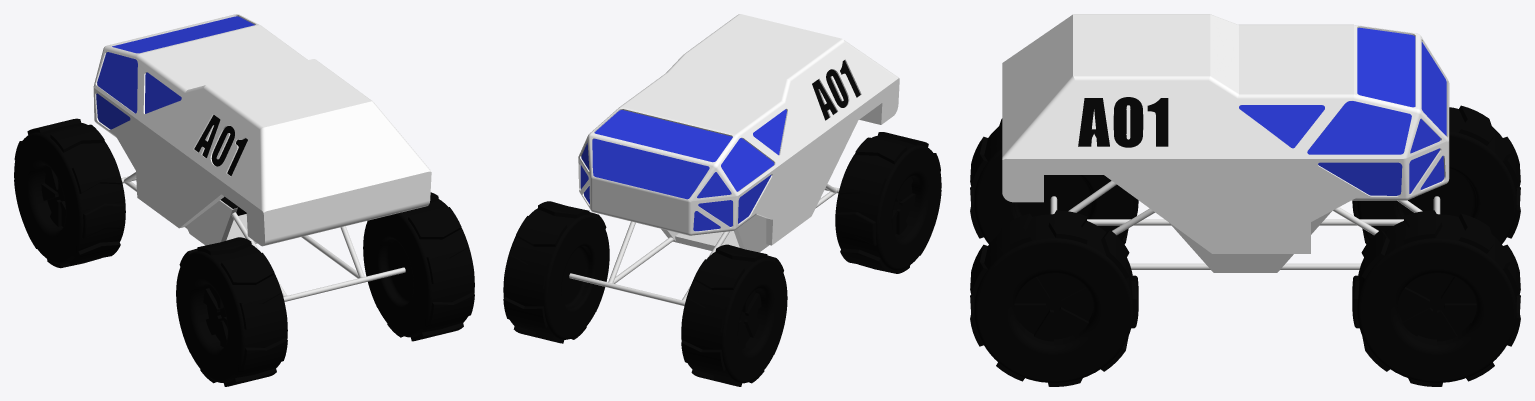
Rendered from axis-01.glb.
3 renders of one model, left to right at view 1: azimuth 30°, elevation 25°; view 2: azimuth 150°, elevation 25°; view 3: azimuth 270°, elevation 25°, orthographic. The views are drawn at different scales.
Visible parts, largest first — view 1: A01, Body16, Body14, Body15, Body1; view 2: A01, Body14, Body16, Body13, Body1; view 3: A01, Body15, Body13, Body14, Body16, Body1.
Part boxes in pixels (x1=…): A01: x1=93, y1=14, x2=431, y2=246; Body16: x1=176, y1=237, x2=287, y2=386; Body14: x1=14, y1=118, x2=125, y2=268; Body15: x1=363, y1=192, x2=474, y2=341; Body1: x1=121, y1=172, x2=405, y2=301; A01: x1=578, y1=14, x2=899, y2=245; Body14: x1=681, y1=244, x2=787, y2=386; Body16: x1=835, y1=132, x2=941, y2=273; Body13: x1=503, y1=201, x2=609, y2=343; Body1: x1=569, y1=184, x2=839, y2=305; A01: x1=1002, y1=14, x2=1449, y2=253; Body15: x1=970, y1=210, x2=1138, y2=386; Body13: x1=1352, y1=210, x2=1520, y2=386; Body14: x1=1352, y1=105, x2=1520, y2=244; Body16: x1=970, y1=118, x2=1138, y2=244; Body1: x1=1050, y1=180, x2=1440, y2=272.
Size of the model in its own units: 2 by 1.91 by 3.45.
